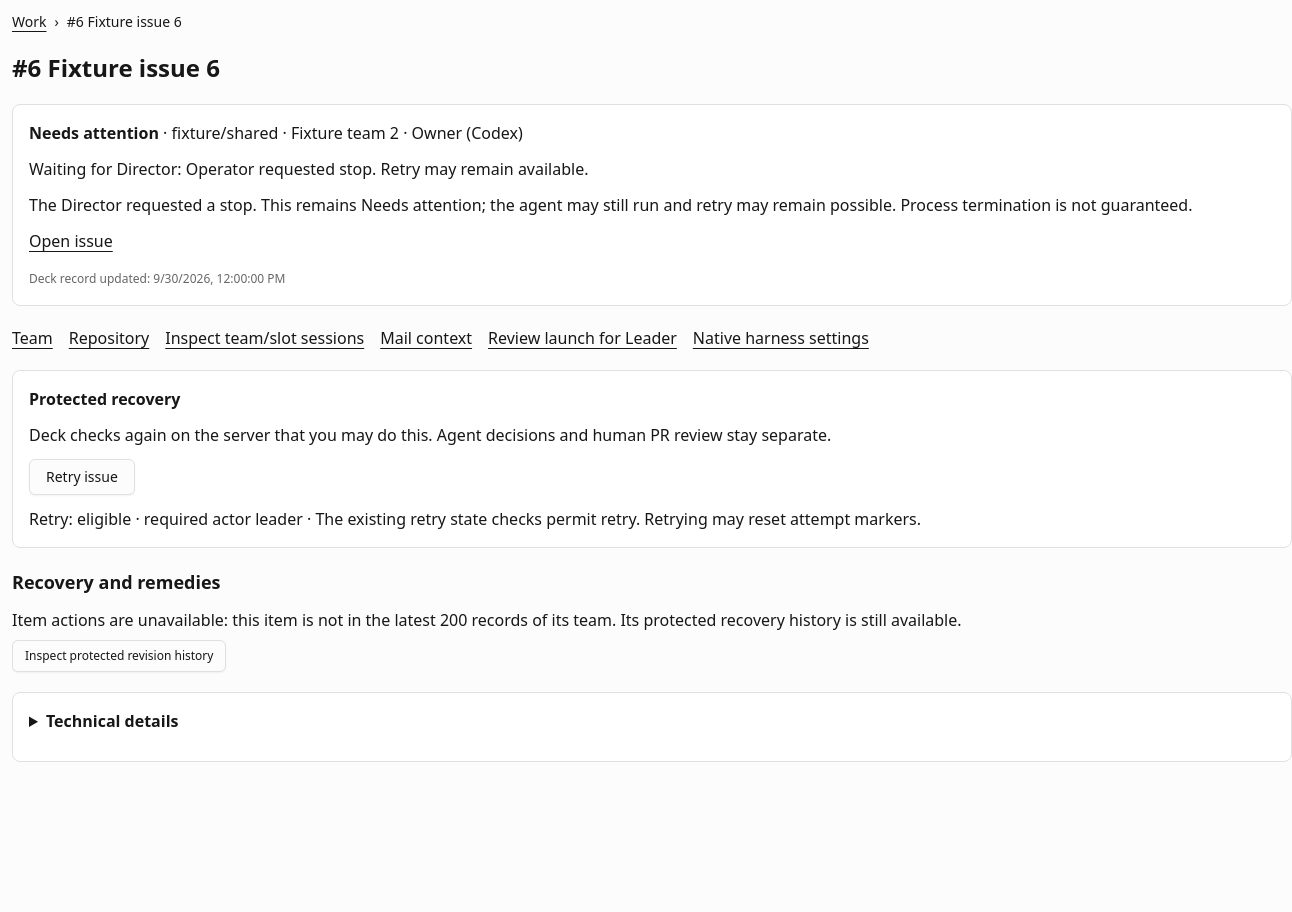
Test case: A1 findings on the Work item page › keeps protected history by item ID for an item outside the latest 200 records
This screenshot has width=1292, height=912.
Expected: the text "Item actions are unavailable: this item is not in the latest 200 records" is shown, [12, 609, 962, 631]
Click the button "Inspect protected revision history": {"x": 119, "y": 656} [12, 640, 226, 672]
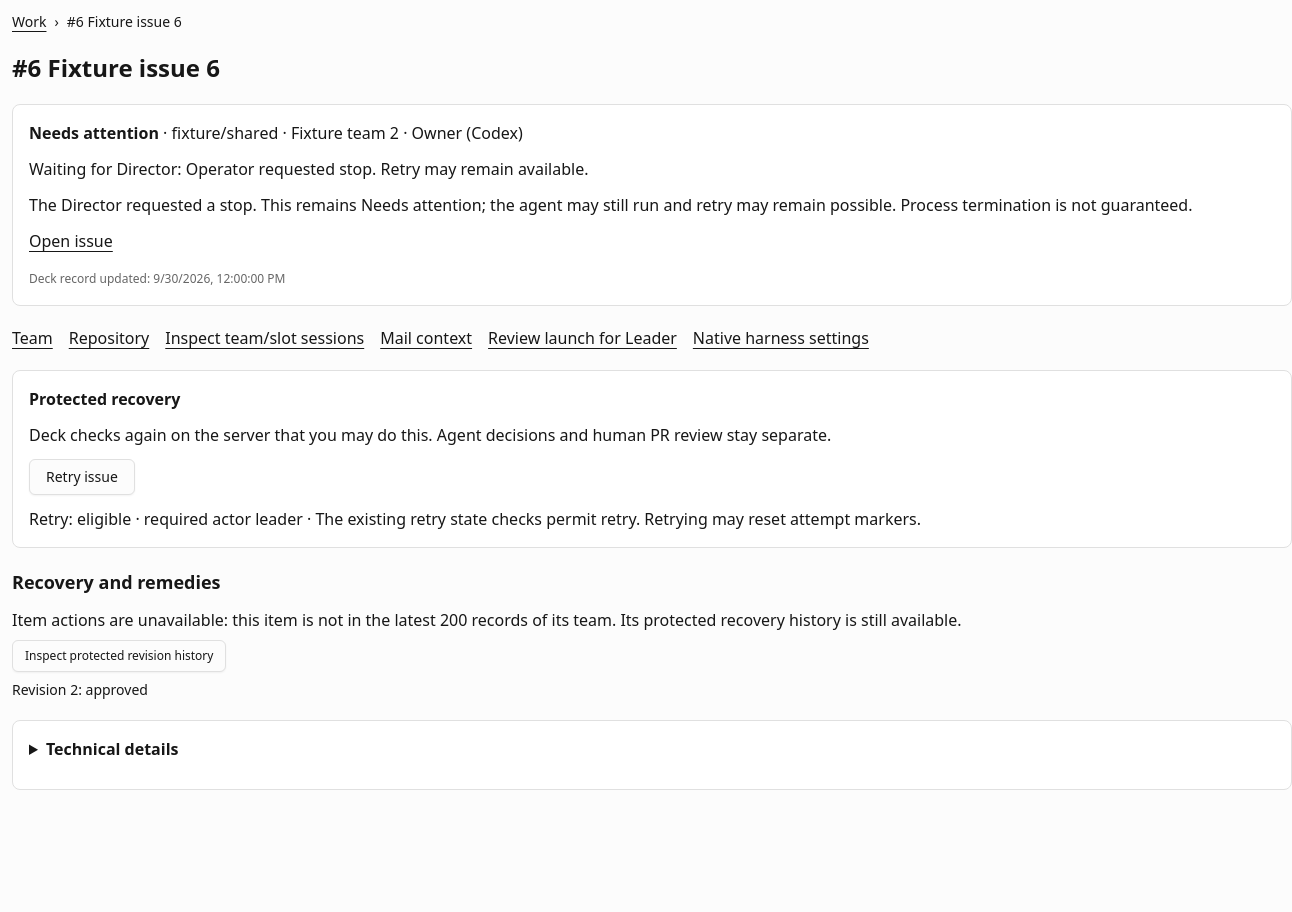
Expected: the list item "Revision 2: approved" is shown, [12, 680, 148, 699]
